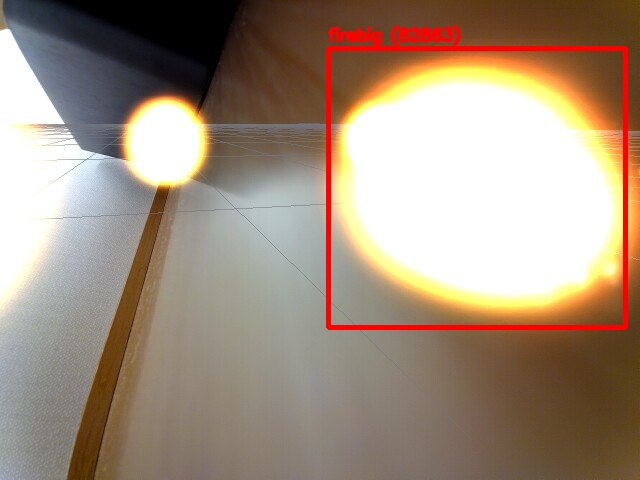firebig: (328, 48, 625, 327)
